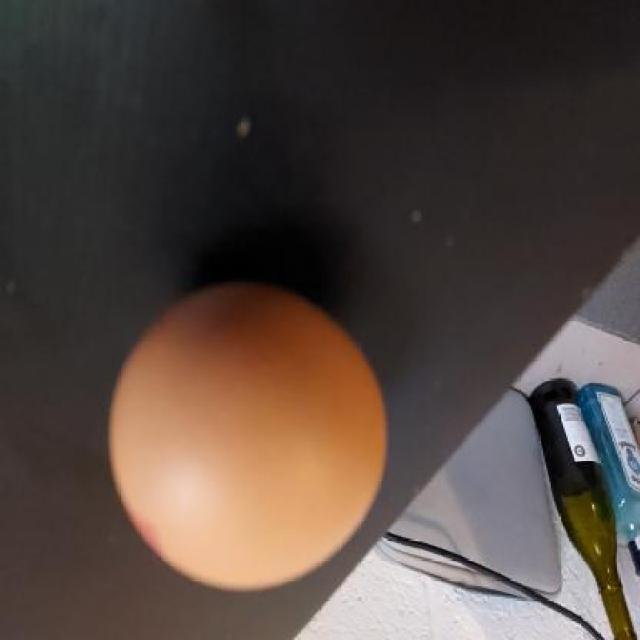biodegradable: (109, 280, 389, 594)
